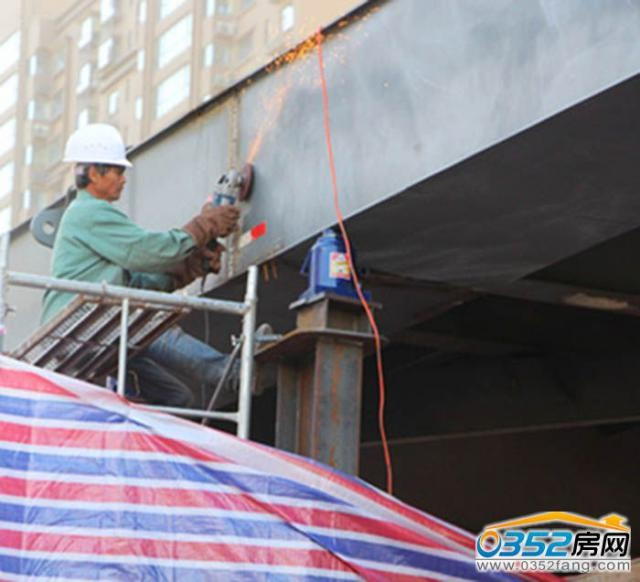white: (64, 124, 132, 203)
